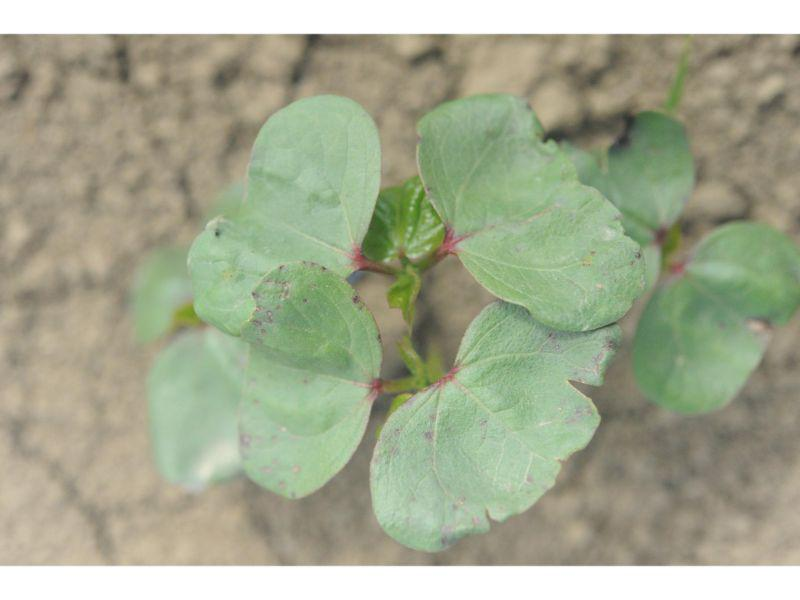cotton: (150, 96, 798, 549)
